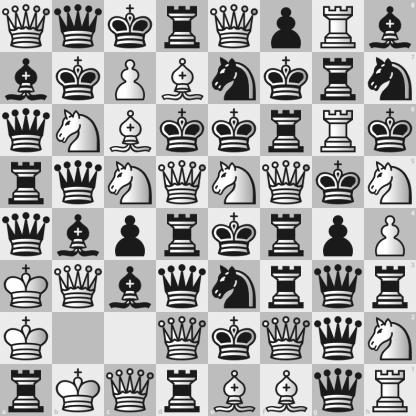B: (260, 364, 312, 416), (209, 364, 260, 416), (105, 105, 156, 156), (157, 53, 208, 104)
K: (52, 364, 104, 416), (1, 261, 52, 312), (1, 313, 52, 364)
N: (364, 156, 416, 209), (364, 312, 416, 364), (53, 105, 104, 156), (105, 157, 156, 208), (209, 157, 260, 208)
P: (364, 209, 416, 260), (105, 53, 156, 104)
Q: (104, 364, 156, 416), (1, 1, 52, 52), (53, 261, 104, 312), (157, 157, 208, 208), (157, 313, 208, 364), (209, 1, 260, 52), (261, 157, 312, 208), (261, 313, 312, 364)
R: (364, 364, 416, 416), (313, 1, 364, 52), (313, 105, 364, 156)
b: (364, 0, 416, 52), (1, 53, 52, 104), (53, 209, 104, 260), (105, 261, 156, 312)
board: (0, 0, 415, 415)
k: (364, 104, 416, 156), (53, 53, 104, 104), (105, 1, 156, 52), (157, 105, 208, 156), (209, 105, 260, 156), (209, 209, 260, 260), (209, 313, 260, 364), (261, 53, 312, 104), (313, 157, 364, 208)
n: (364, 52, 416, 104), (209, 53, 260, 104), (209, 261, 260, 312)
p: (105, 209, 156, 260), (261, 1, 312, 52), (313, 209, 364, 260)
q: (312, 364, 364, 416), (1, 105, 52, 156), (1, 209, 52, 260), (53, 1, 104, 52), (53, 157, 104, 208), (157, 261, 208, 312), (313, 261, 364, 312), (313, 313, 364, 364)
r: (156, 364, 209, 416), (0, 364, 52, 416), (364, 260, 416, 312), (1, 157, 52, 208), (157, 1, 208, 52), (157, 209, 208, 260), (261, 105, 312, 156), (261, 209, 312, 260), (261, 261, 312, 312), (313, 53, 364, 104)
